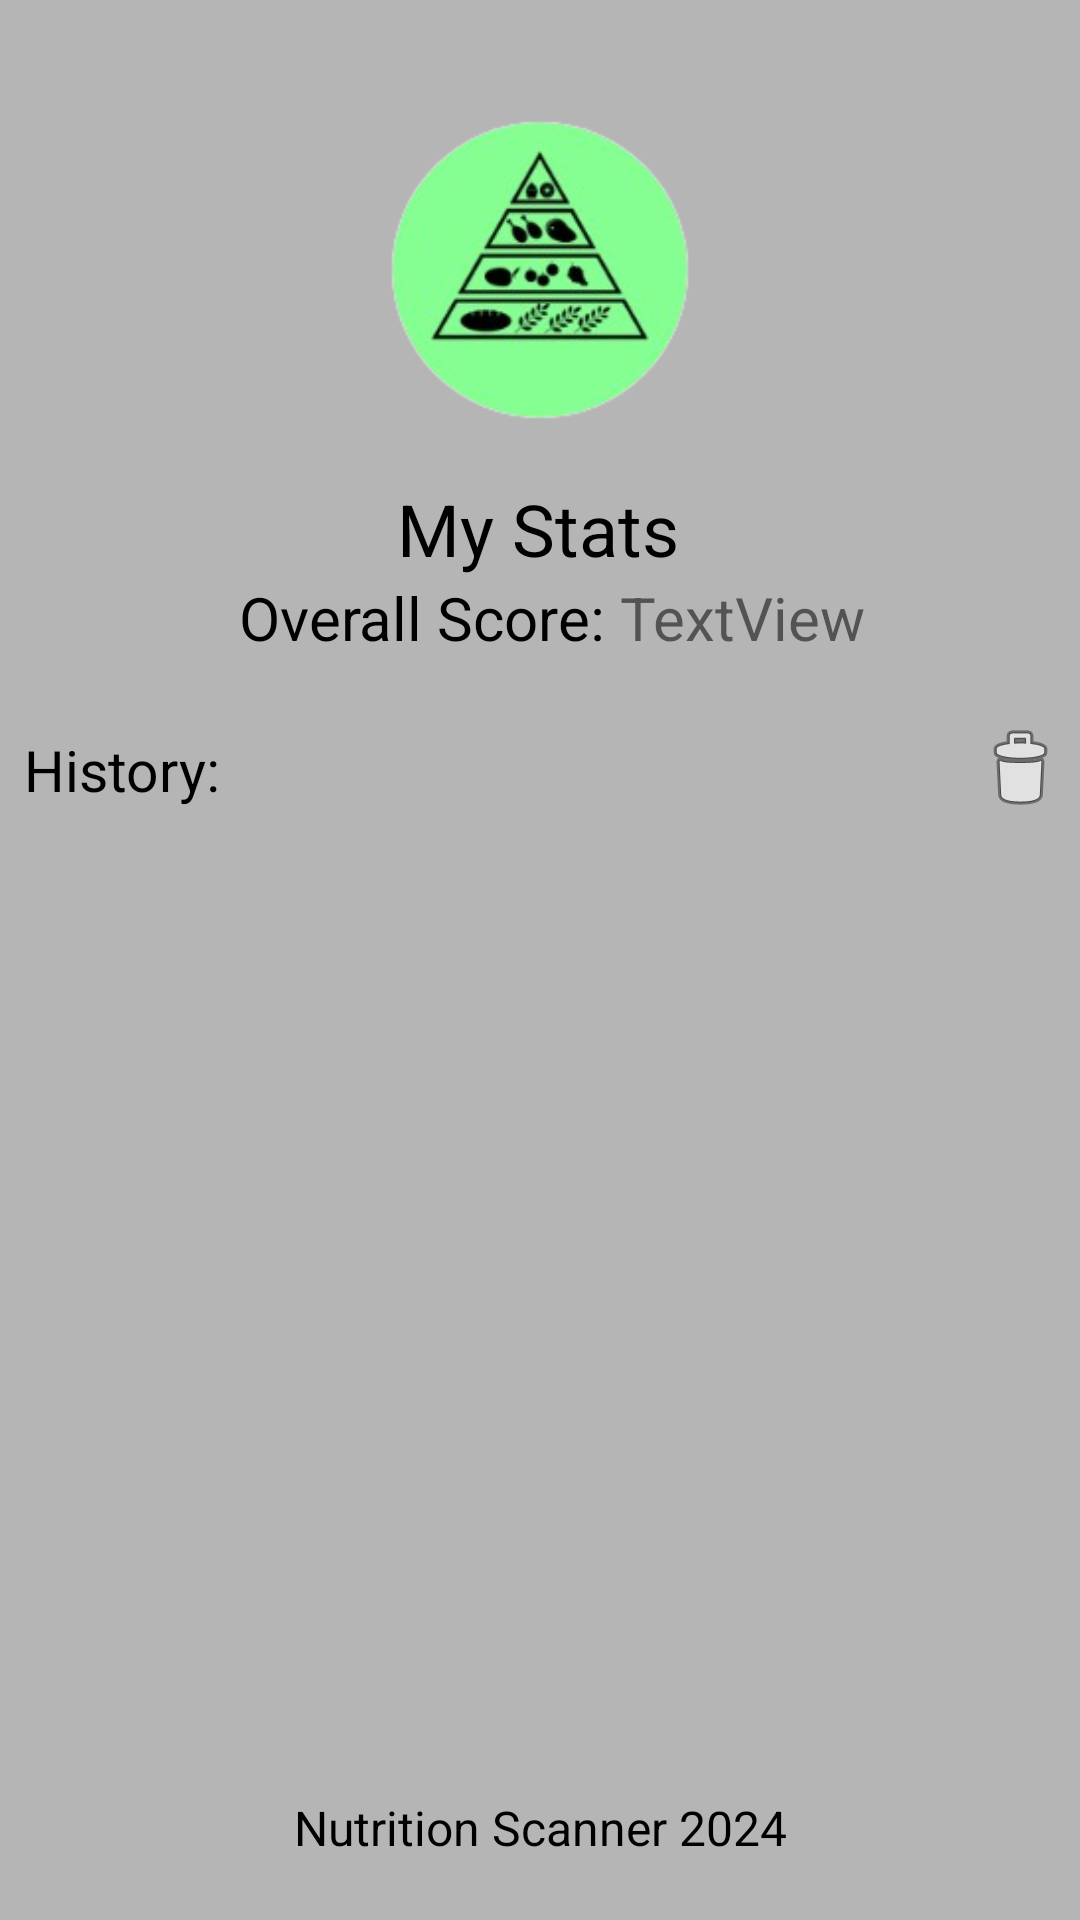

Where to tap for icons on this 1080px×1920px app screen, as (x,y):
delete: (1020,767)
